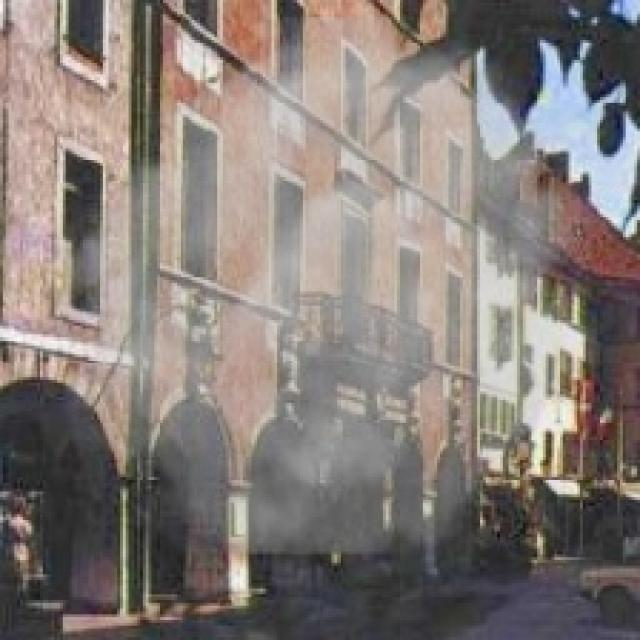smoke: (43, 17, 608, 554)
